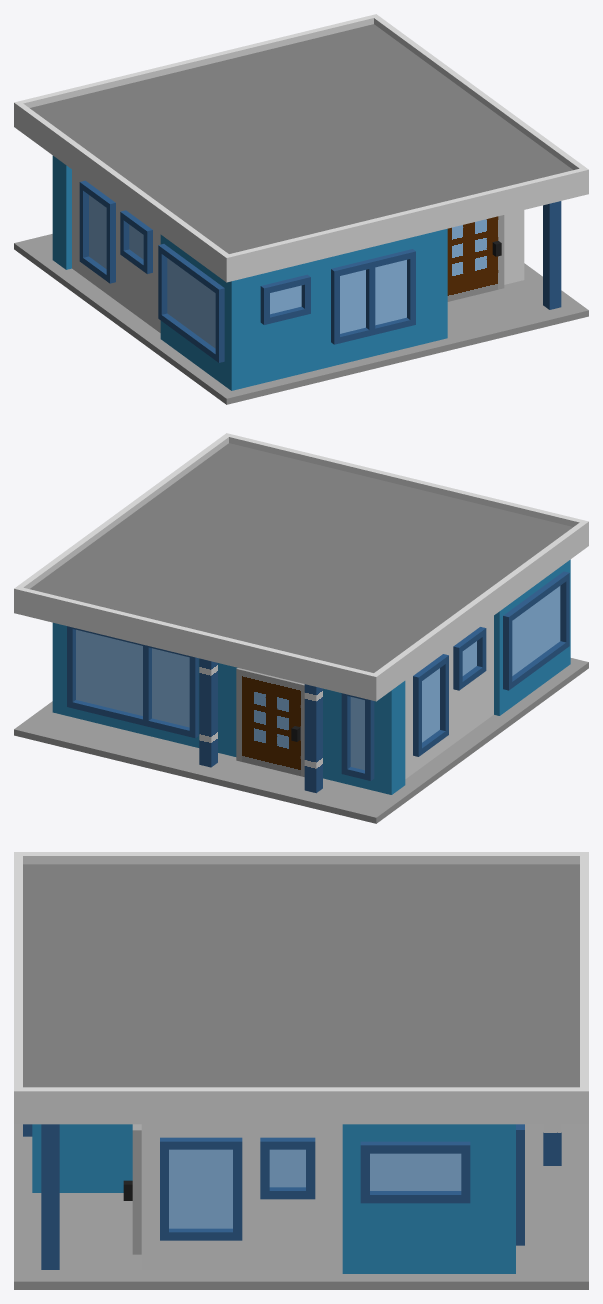
The model's file is obj_house1.fbx.
3 views of the same model, one above another, from view 1: azimuth 30°, elevation 25°; view 2: azimuth 150°, elevation 25°; view 3: azimuth 270°, elevation 25° (orthographic). The views are drawn at different scales.
Parts seen in each view (by area): view 1: obj_house1; view 2: obj_house1; view 3: obj_house1.
Boxes of the visible parts, bbox=[...] form: obj_house1: bbox=[14, 14, 588, 404]; obj_house1: bbox=[14, 433, 588, 823]; obj_house1: bbox=[14, 852, 588, 1289].
Size of the model in its own units: 6.2 by 6.3 by 2.4.
Materials: 1 (1 with a texture image).
